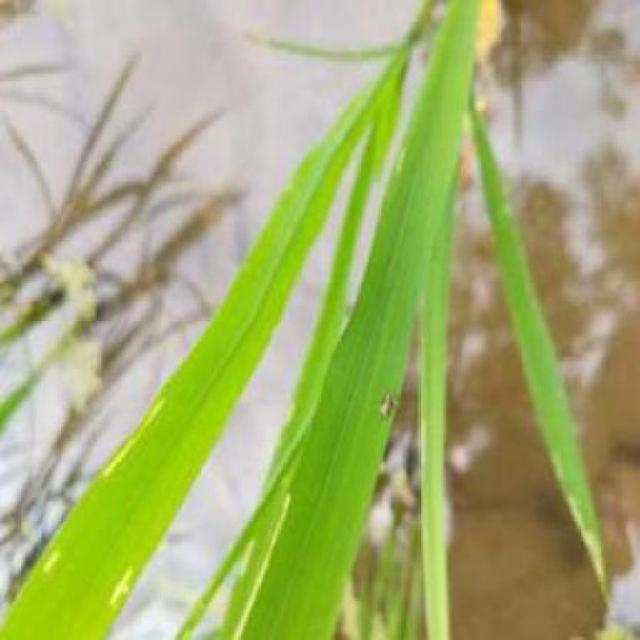rice-bug: (378, 384, 402, 422)
